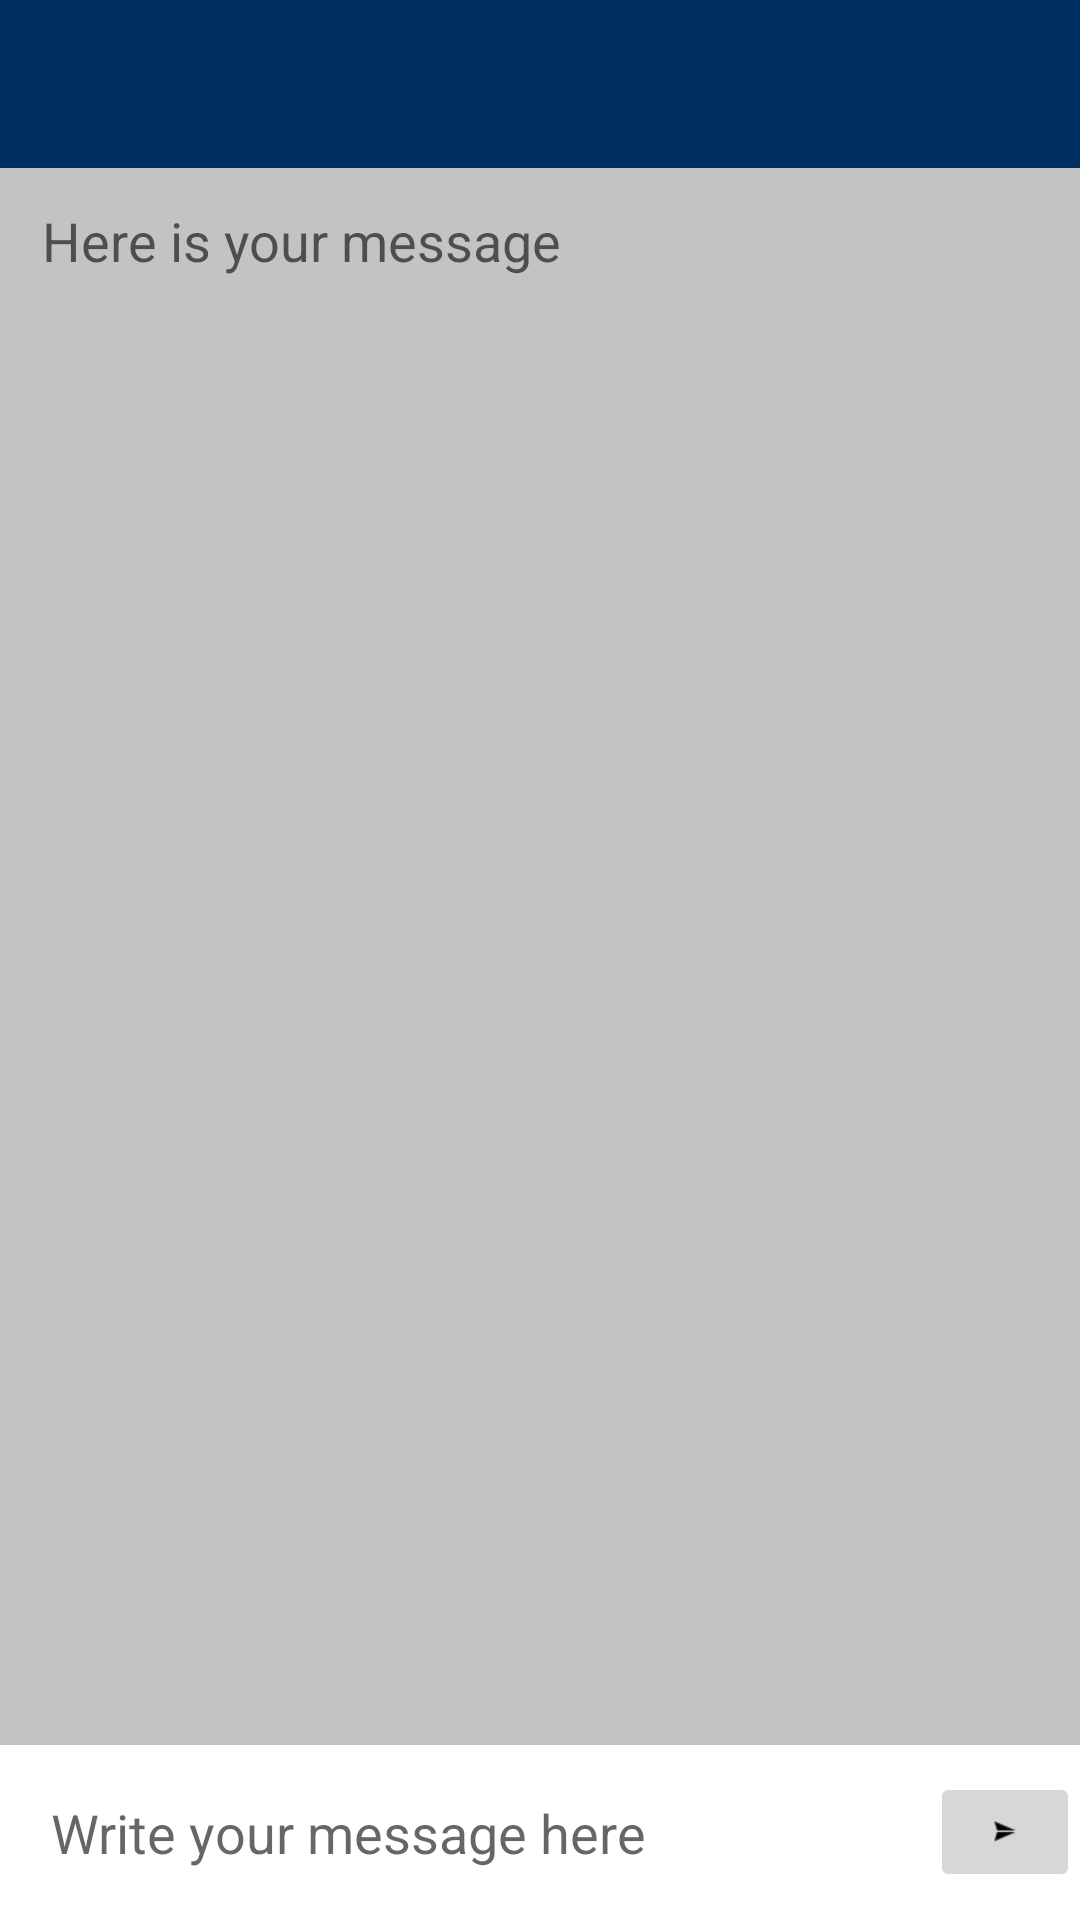

Icon click points for this 1080px×1920px phone screenshot, format point (x, y):
email send: point (1005, 1832)
